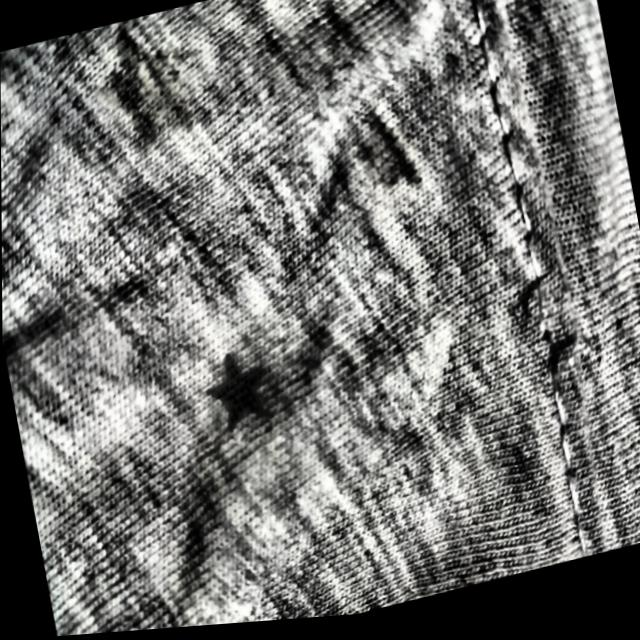Stitch: (482, 208, 626, 474)
